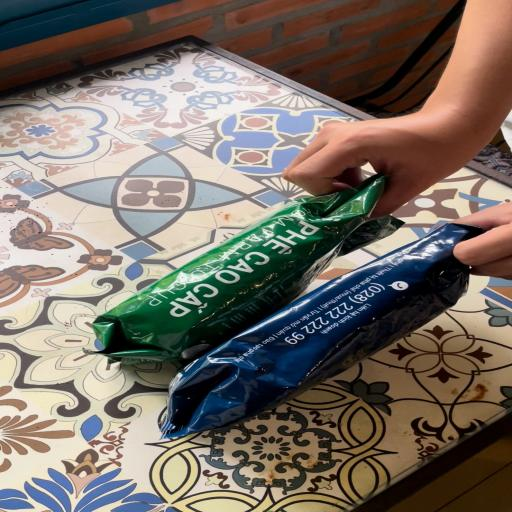cafe_hat: (161, 223, 483, 439)
cafe_xay: (92, 176, 402, 364)
